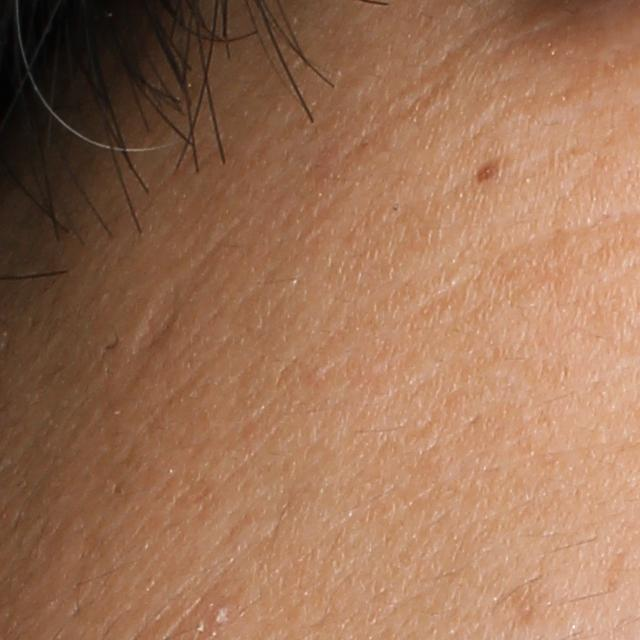comedo: (208, 604, 233, 627)
nevus: (470, 156, 509, 186)
